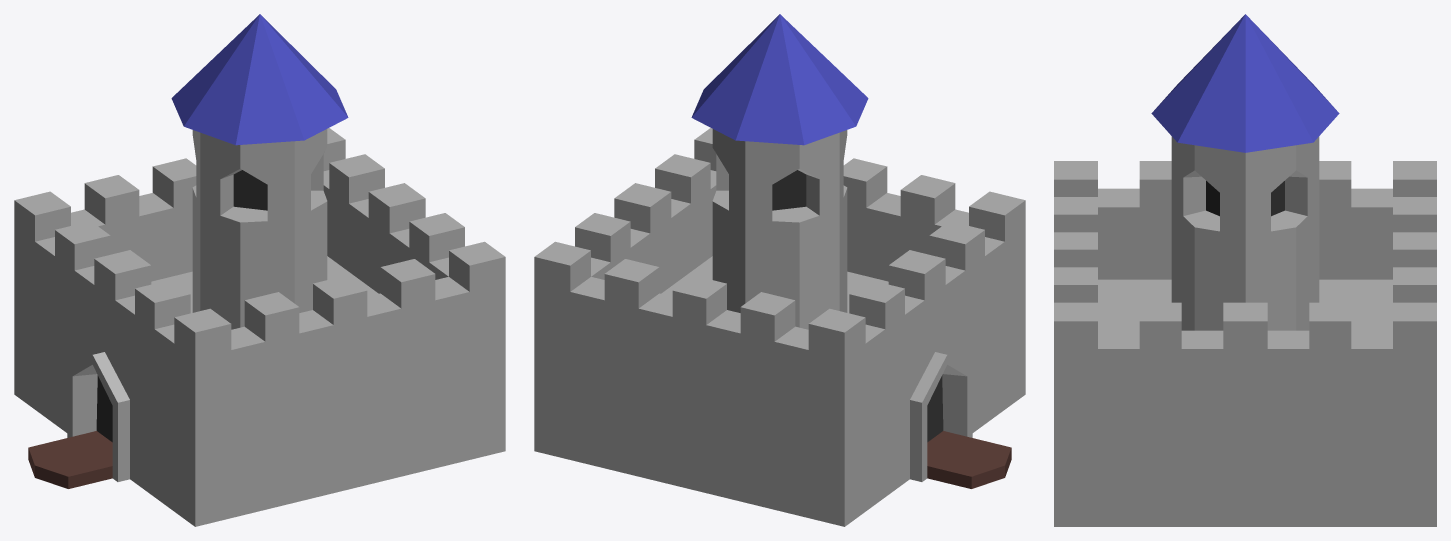
File: MiniCastle1.fbx
3 renders of one model, left to right at view 1: azimuth 30°, elevation 25°; view 2: azimuth 150°, elevation 25°; view 3: azimuth 270°, elevation 25°, orthographic. The views are drawn at different scales.
Parts seen in each view (by area): view 1: Cube; view 2: Cube; view 3: Cube.
Boxes of the visible parts, x1,y1,x2,y2 form: Cube: (14,14,505,526); Cube: (534,14,1025,526); Cube: (1054,14,1436,526).
Bounding box in the file's own units: 623 × 640 × 513.
